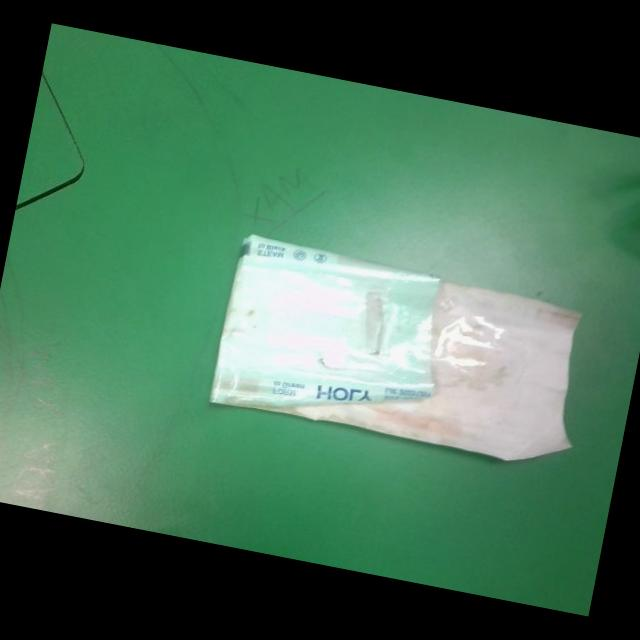triple_syringe: (207, 232, 600, 473)
